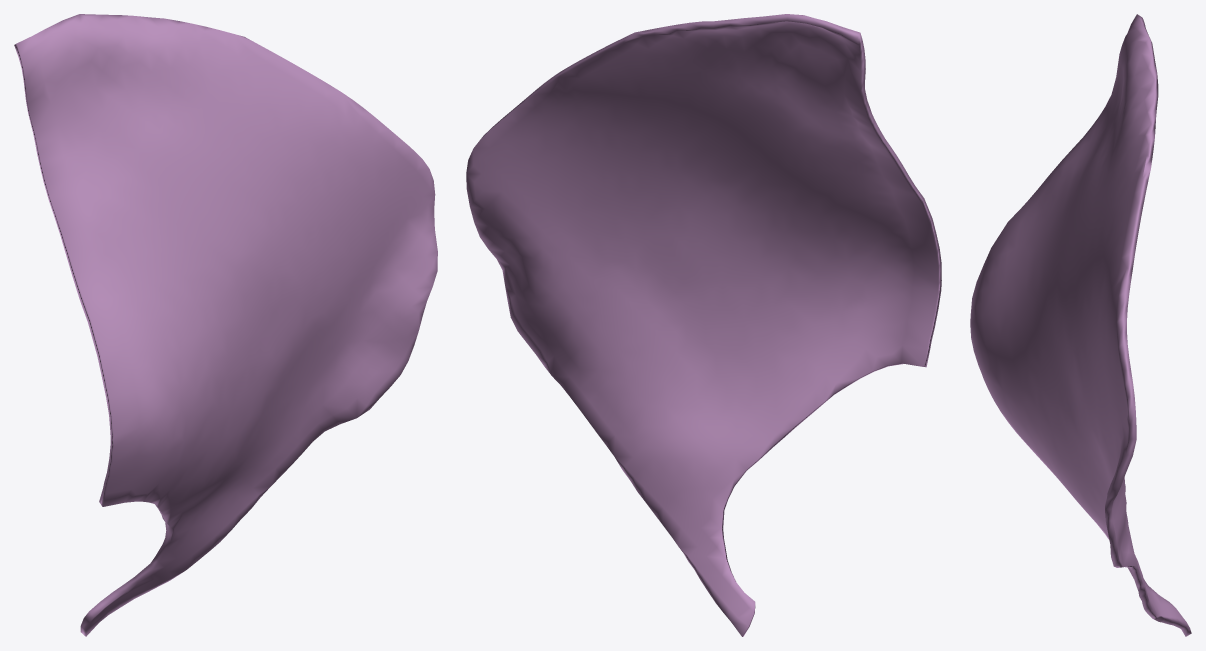
3 views of the same model, side by side, from view 1: azimuth 30°, elevation 25°; view 2: azimuth 150°, elevation 25°; view 3: azimuth 270°, elevation 25° (orthographic). The views are drawn at different scales.
Visible parts, largest first — view 1: 左侧小脑幕; view 2: 左侧小脑幕; view 3: 左侧小脑幕.
Boxes of the visible parts, left/top/right/bottom form: 左侧小脑幕: left=14, top=14, right=437, bottom=636; 左侧小脑幕: left=466, top=14, right=941, bottom=636; 左侧小脑幕: left=970, top=14, right=1191, bottom=636.
Size of the model in its own units: 0.0897 by 0.1333 by 0.0456.
